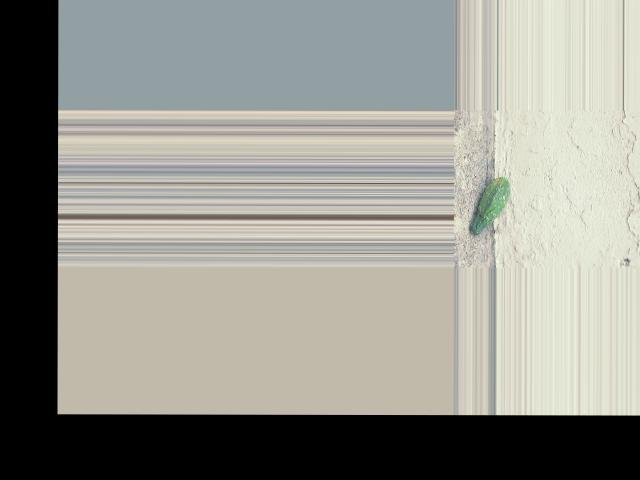cucumber: (470, 176, 511, 234)
